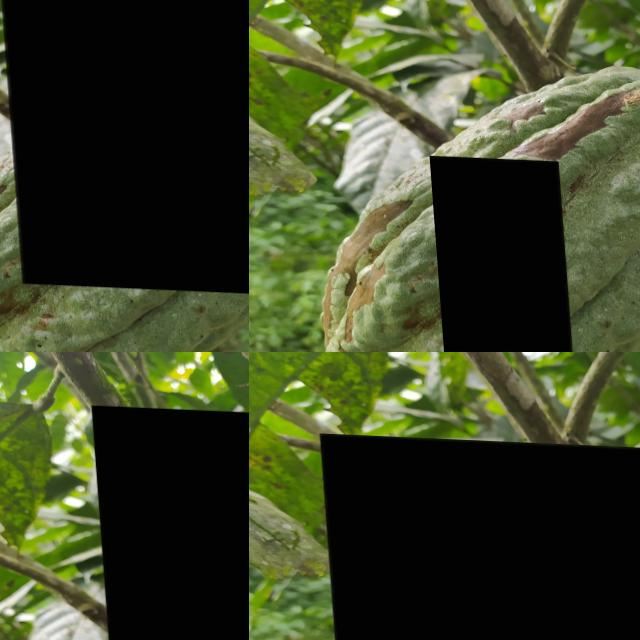Fitoftora: (90, 403, 249, 640), (342, 0, 524, 177)
Monilia: (424, 153, 568, 352)
Sana: (0, 0, 249, 290), (316, 432, 640, 640)
